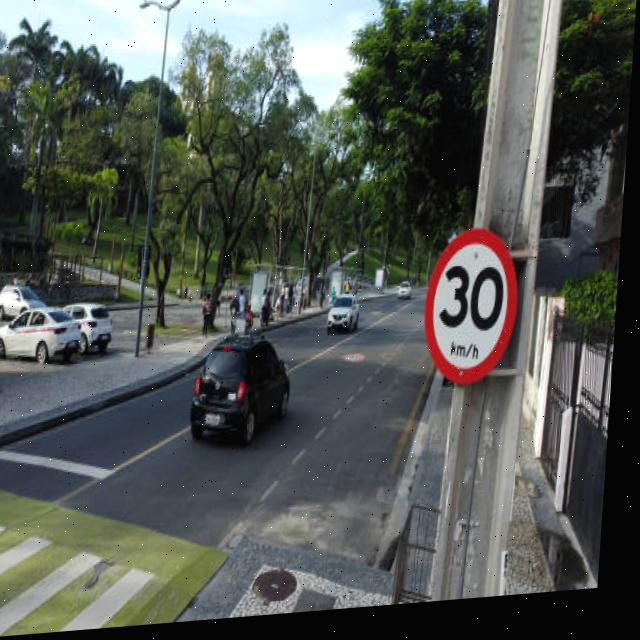Speed limit 30: (424, 228, 530, 400)
